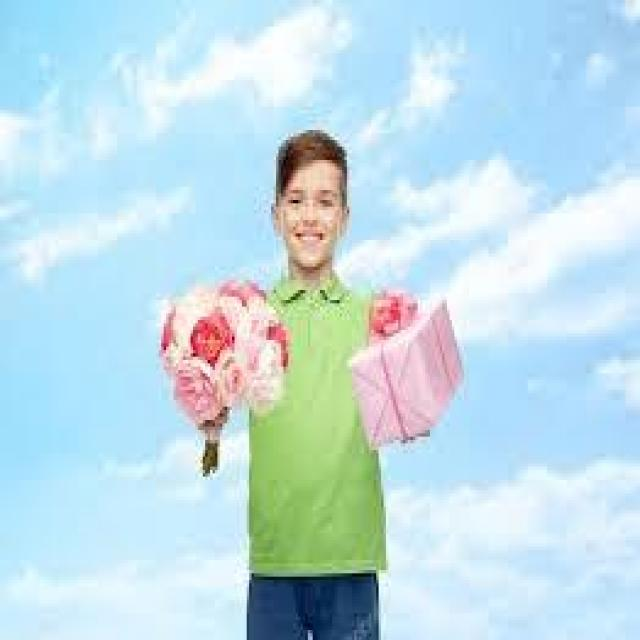organic waste: (160, 268, 287, 428)
